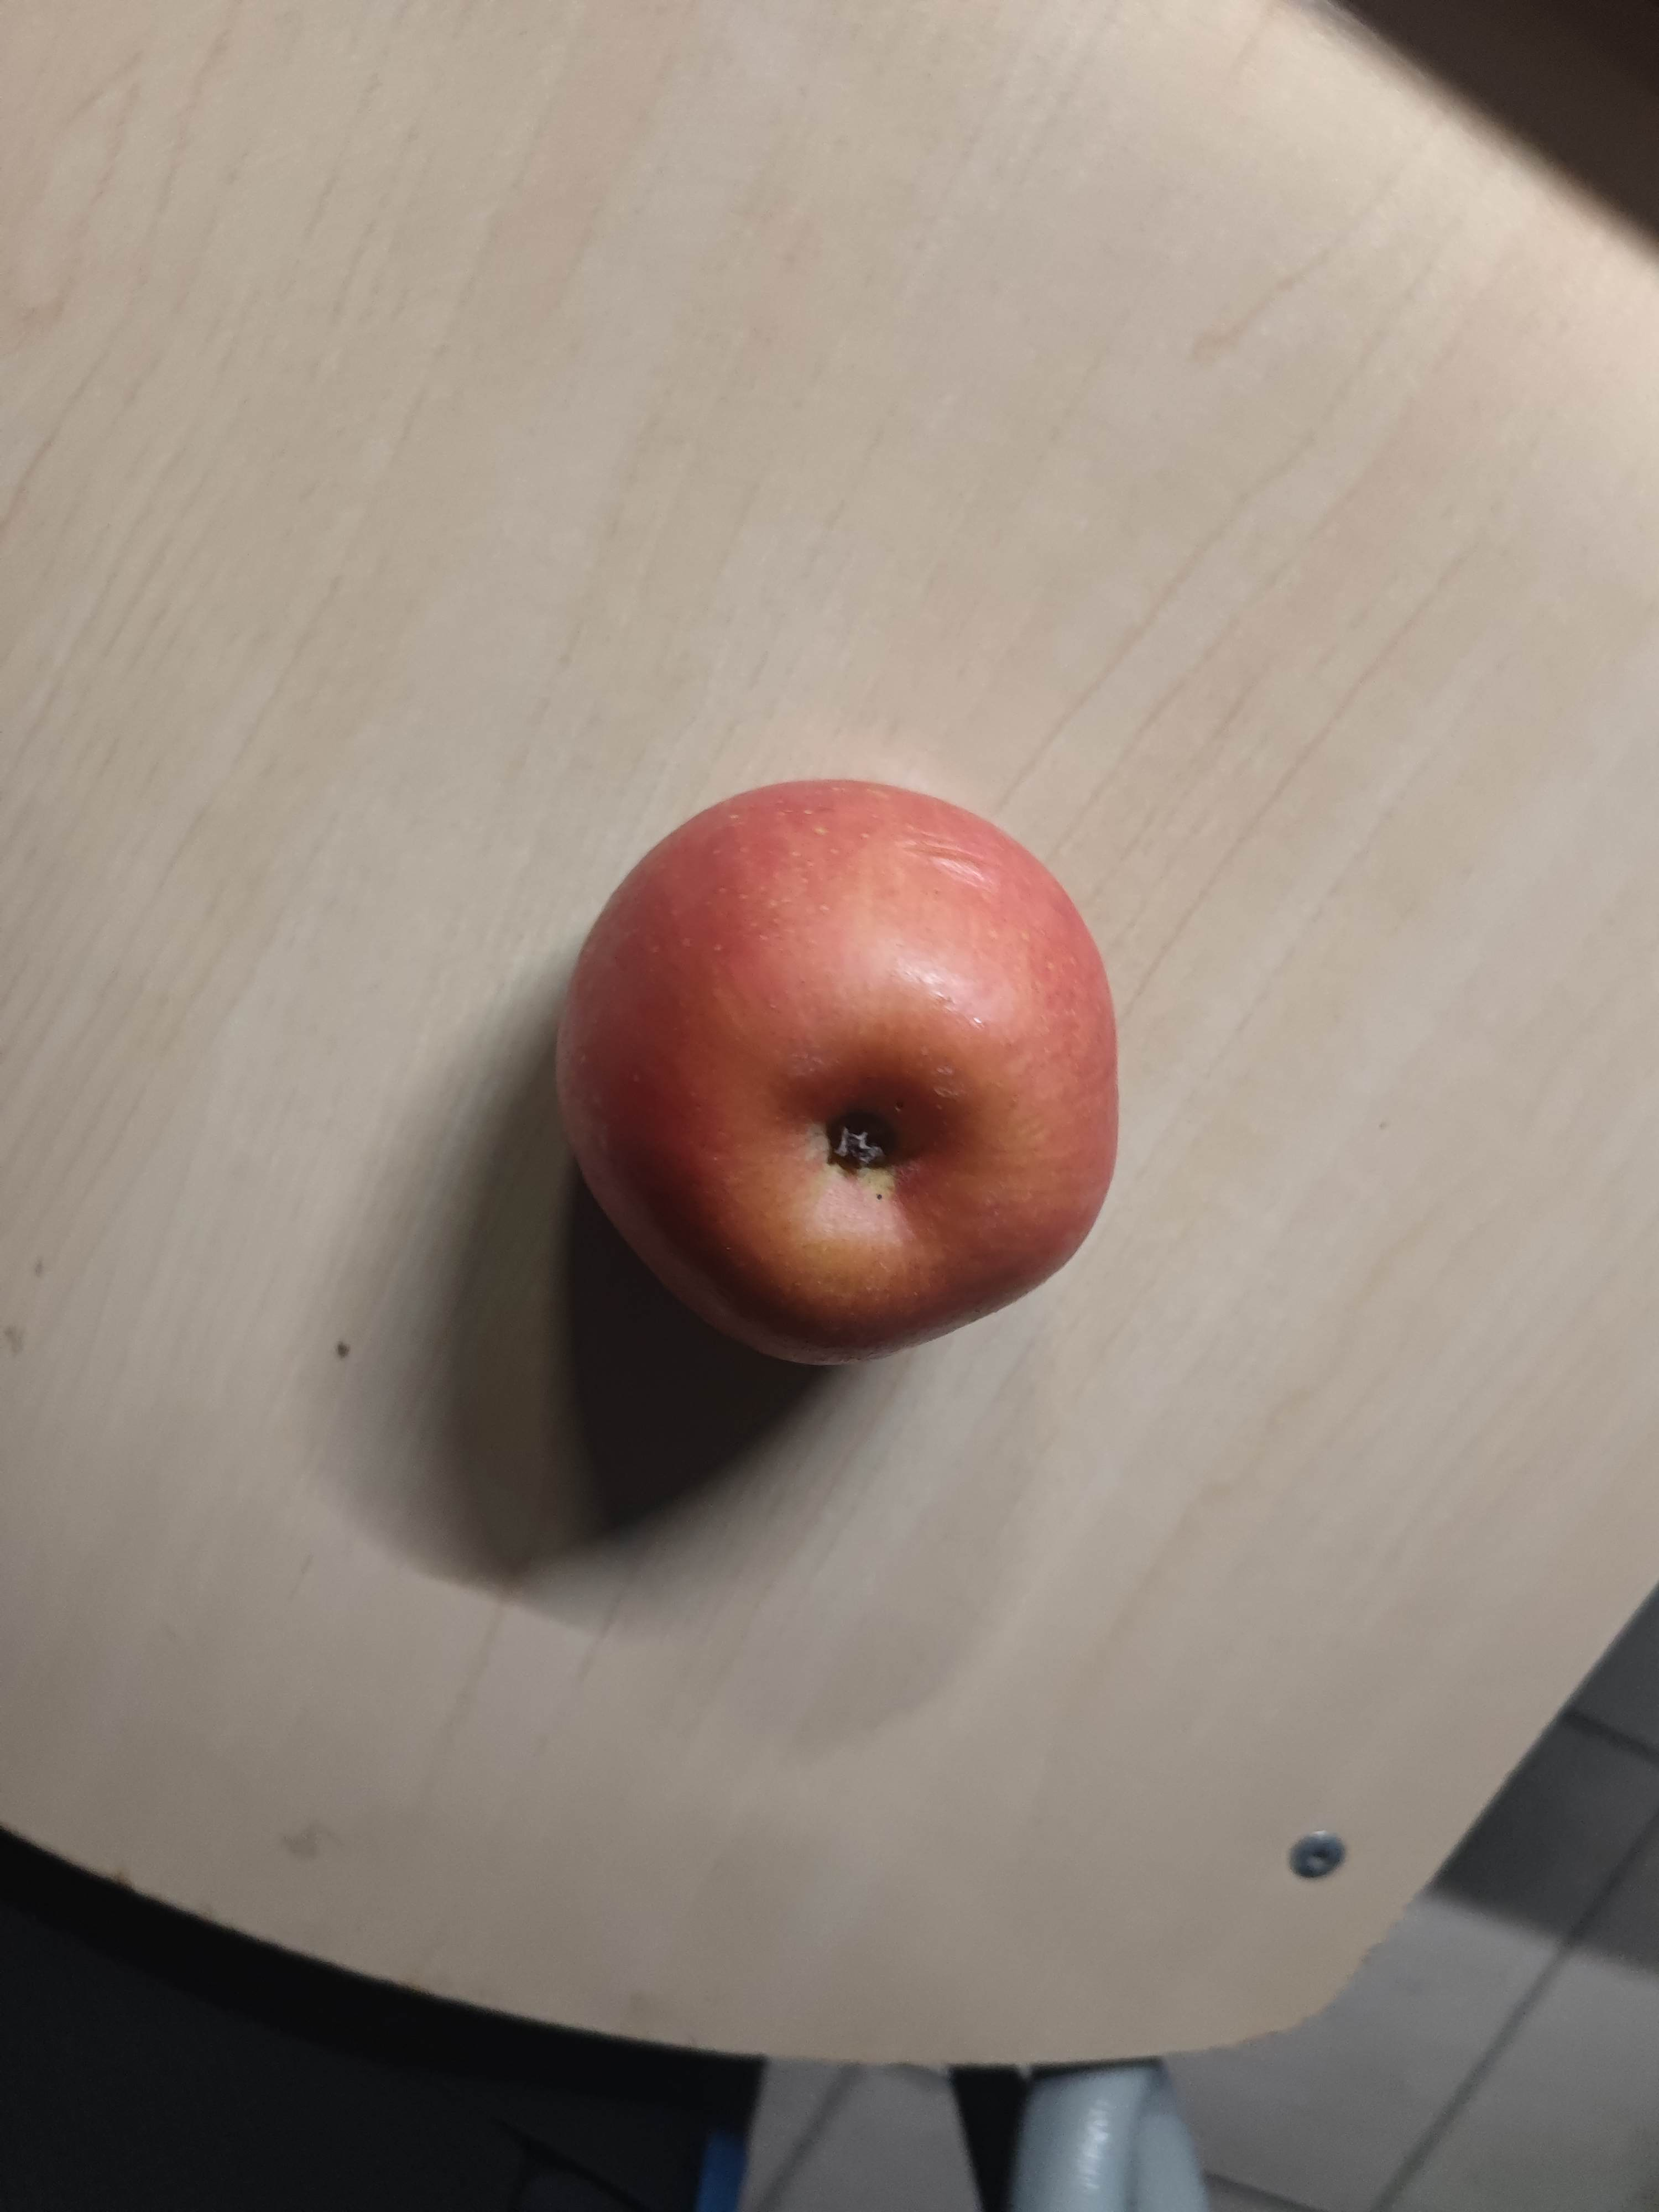apple: (563, 780, 1133, 1369)
